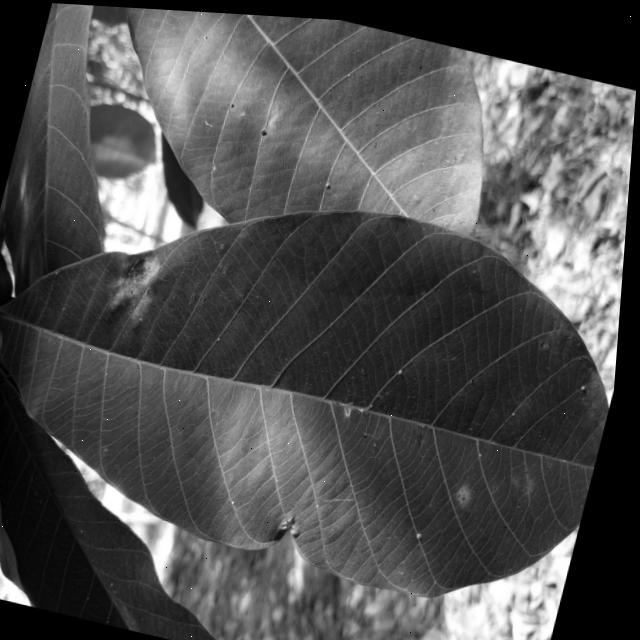Leaf-Blight: (111, 246, 168, 324)
